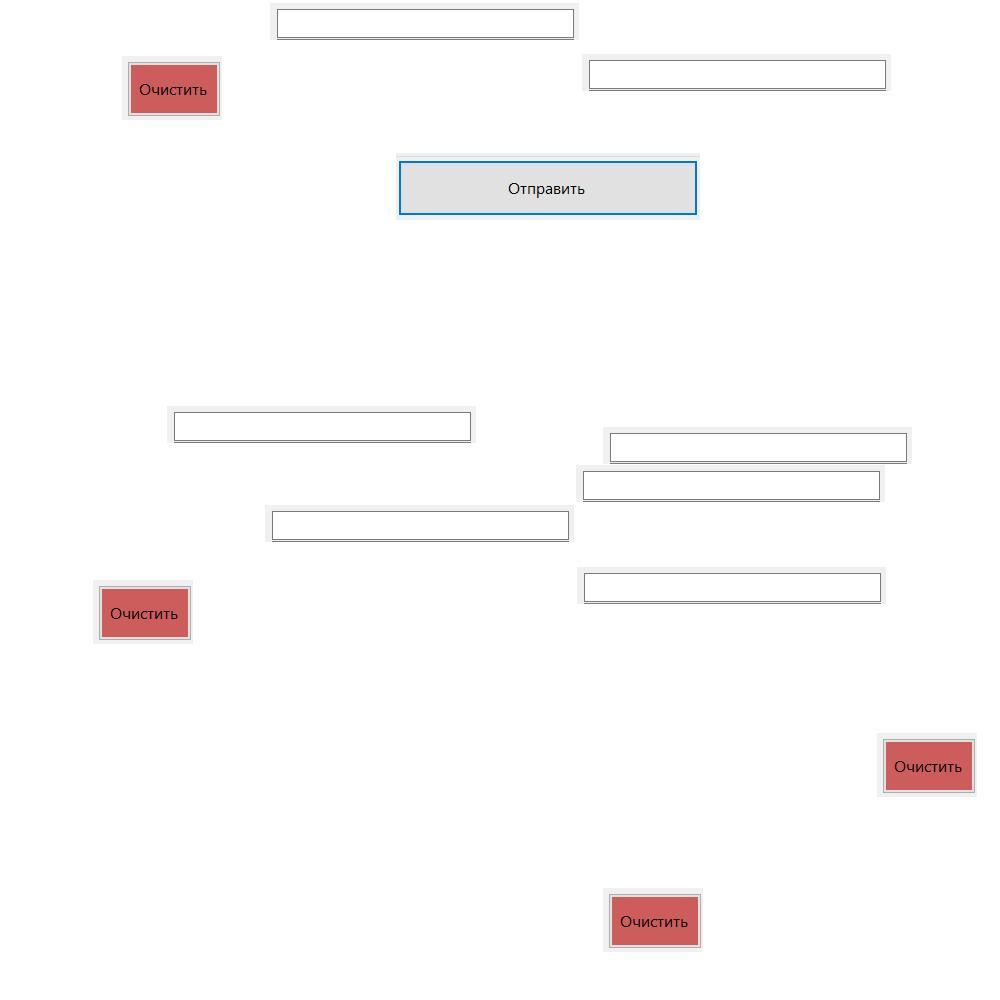Button: (396, 153, 700, 220), (877, 733, 977, 797), (93, 580, 193, 644), (603, 888, 703, 952), (122, 56, 222, 120)
EditText-: (577, 567, 886, 604), (270, 3, 579, 40), (603, 427, 912, 464), (582, 54, 891, 91), (167, 406, 476, 443), (576, 465, 885, 502), (265, 505, 574, 542)
